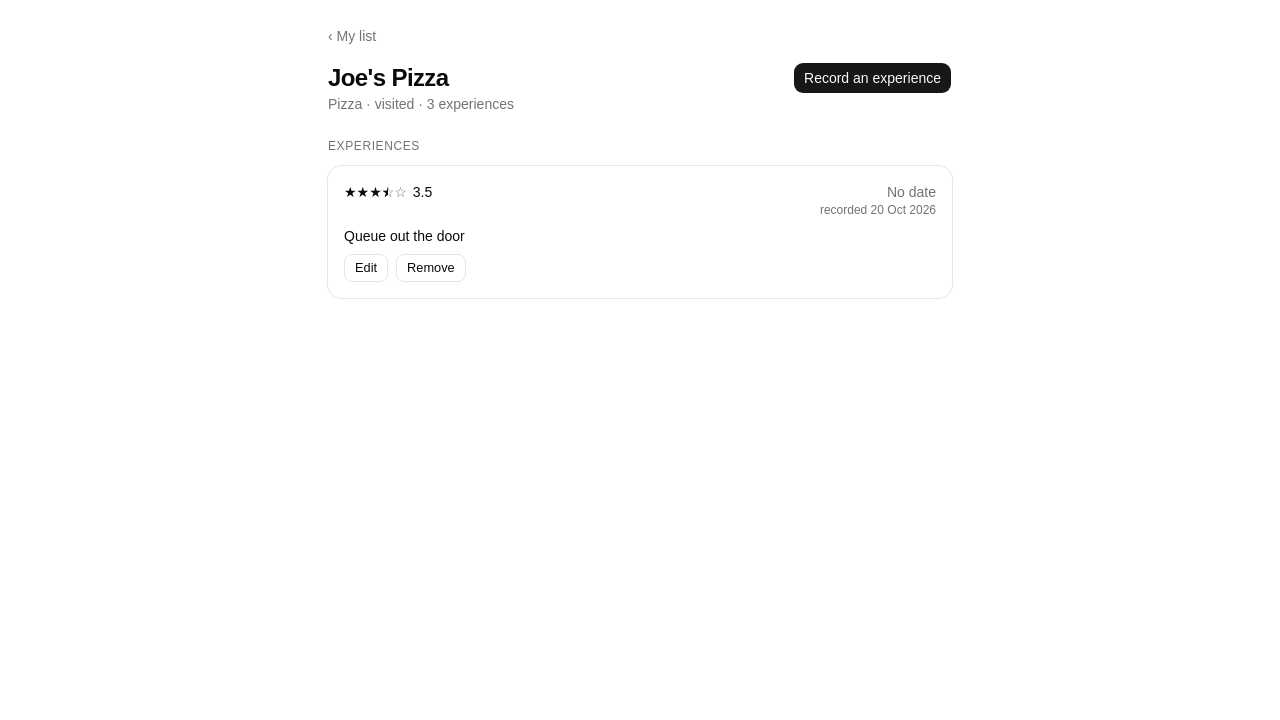
removing an experience › naming the experience › shows the rating alongside
The image size is (1280, 720).
Click the button "Remove" at [431, 268], box [396,254,466,282]
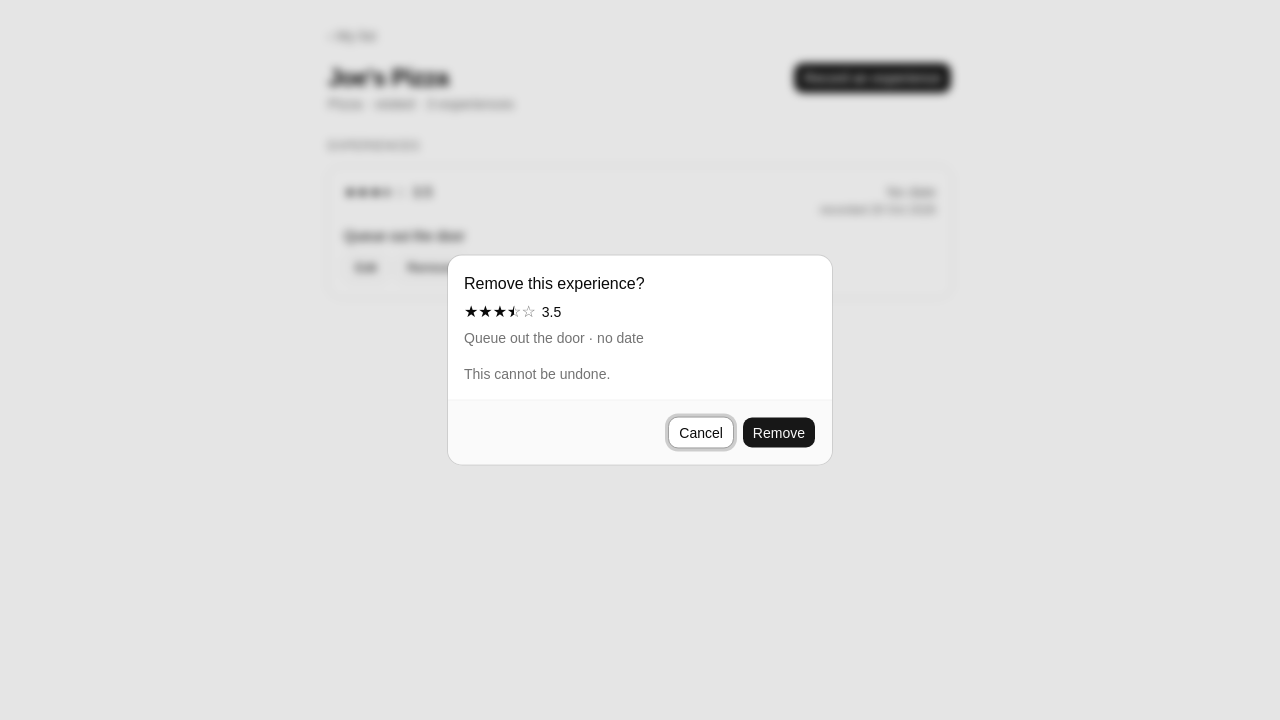
Result: the heading "Remove this experience?" is shown at [464,272,644,296]
Result: the text "Queue out the door · no date" is shown at [464,328,644,348]
Result: the text "3.5" is shown at [542,302,561,322]
